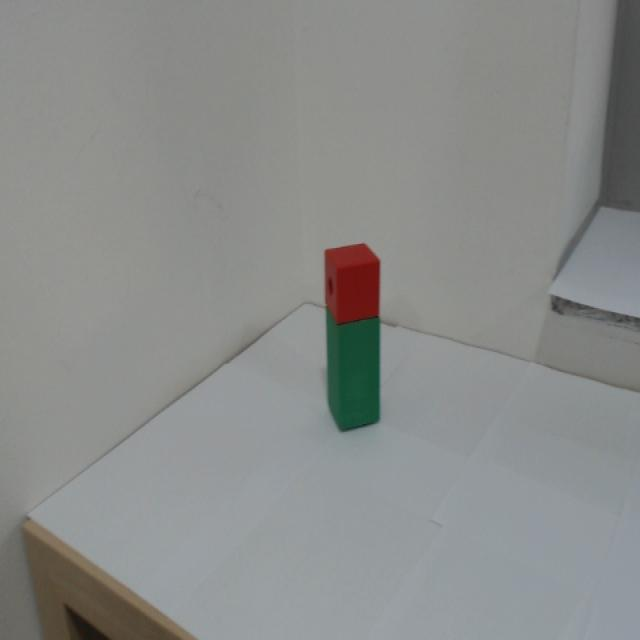cube: (315, 220, 403, 324)
